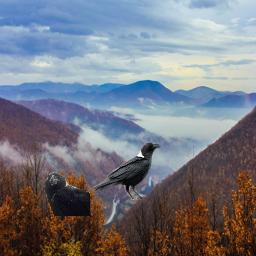Crow: (92, 140, 162, 201), (44, 172, 90, 216)
